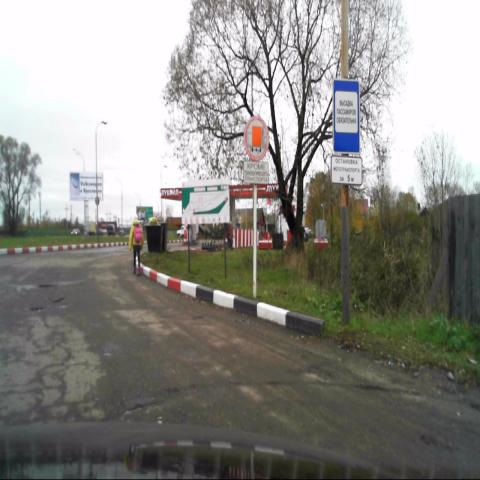3_32: (244, 114, 269, 163)
